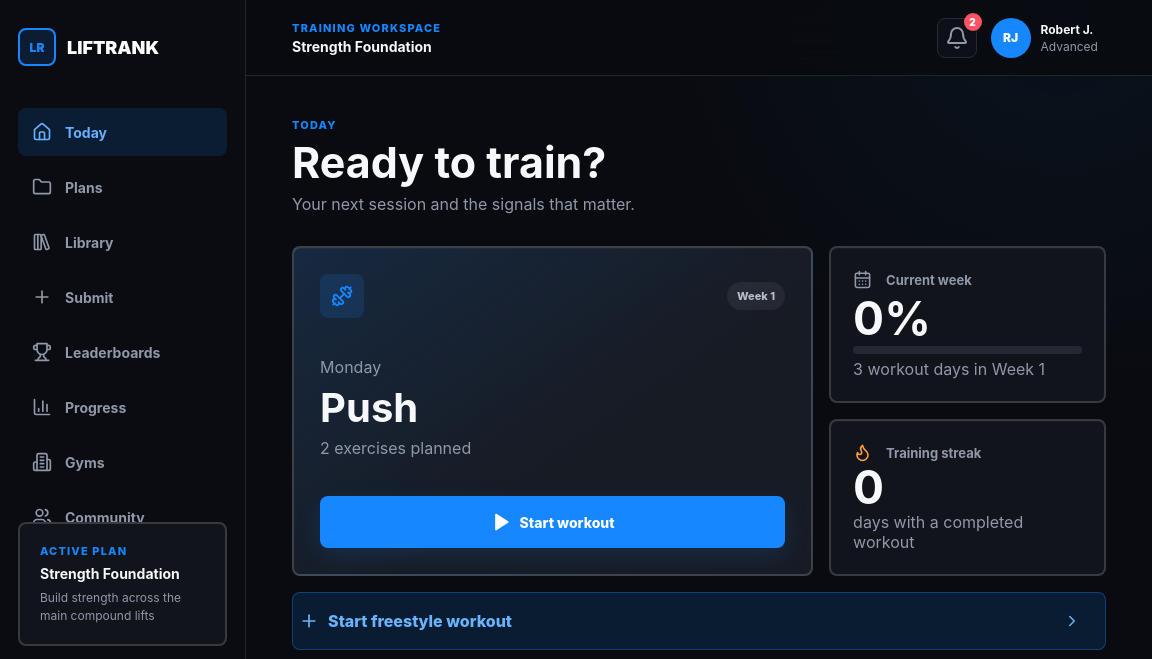
LiftRank tracker UI › shows the current lifter profile and opens it from the profile pill
Click the link with aria-label "Open profile" at (1046, 38), box [986,14,1106,62]
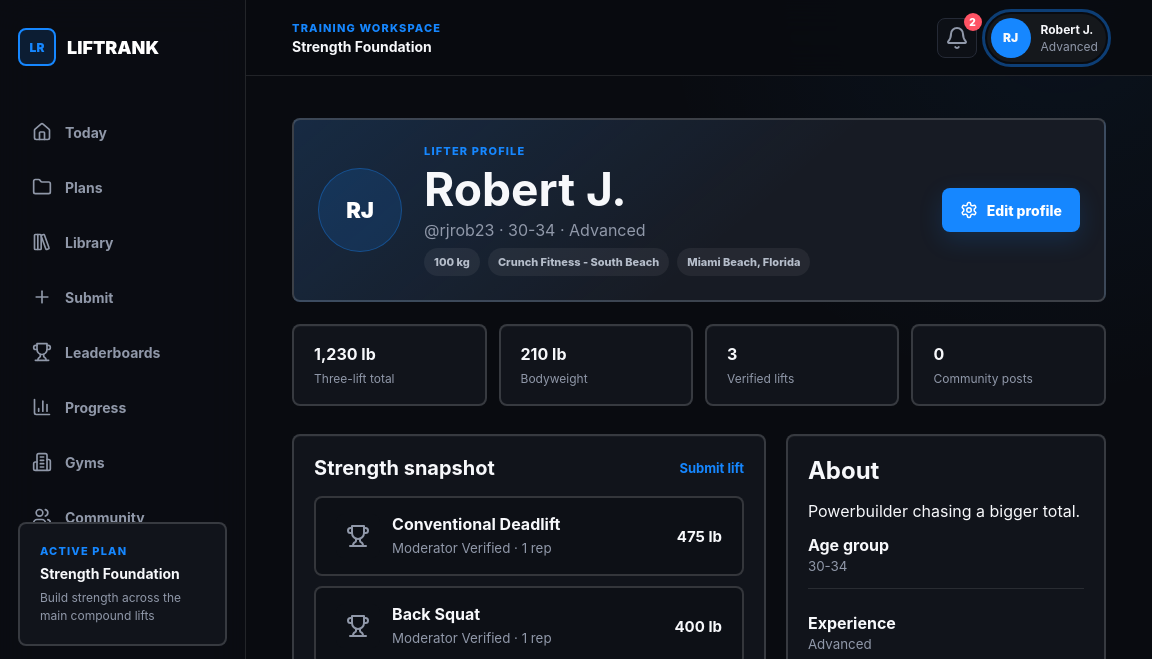
Now the heading "Robert J." is shown, box [424,161,627,217]
Now the text "@rjrob23 · 30-34 · Advanced" is shown, box [424,220,646,240]
Now the heading "Strength snapshot" is shown, box [314,456,495,480]
